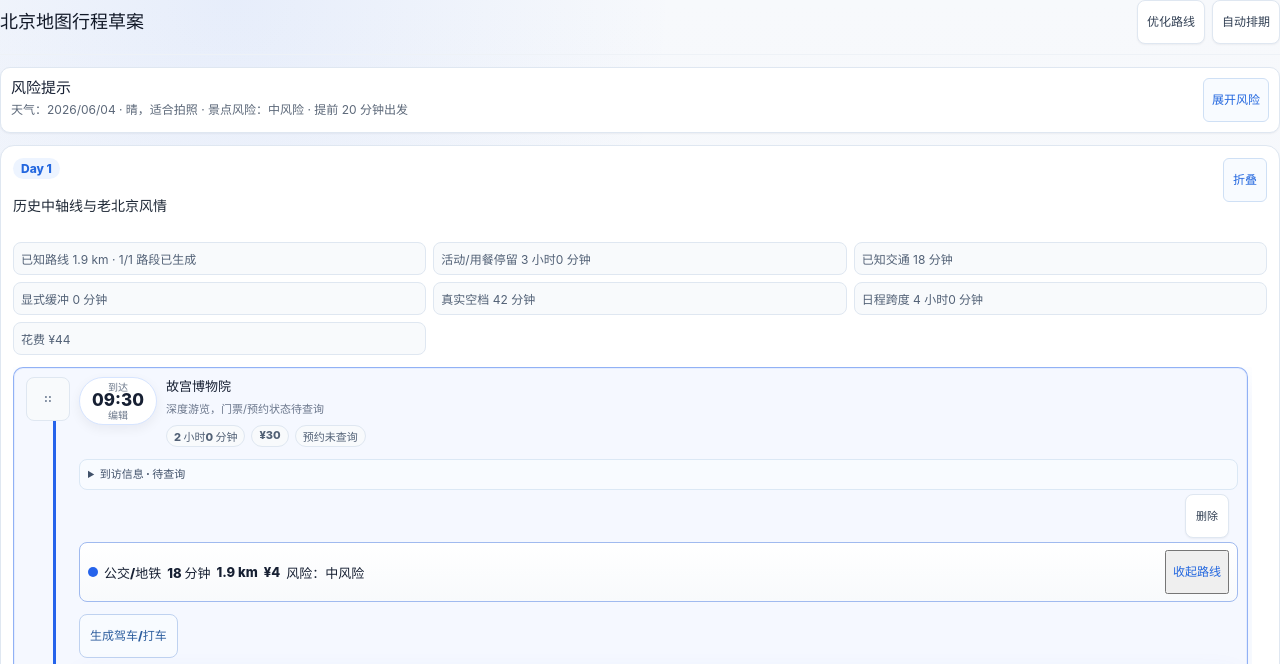
Test case: auto schedule button recomputes schedule without changing route preference
What coordinates should you click on to do the following:
click the button "自动排期"
I would click on:
 (1246, 22)
Its box is [1212, 0, 1279, 44].
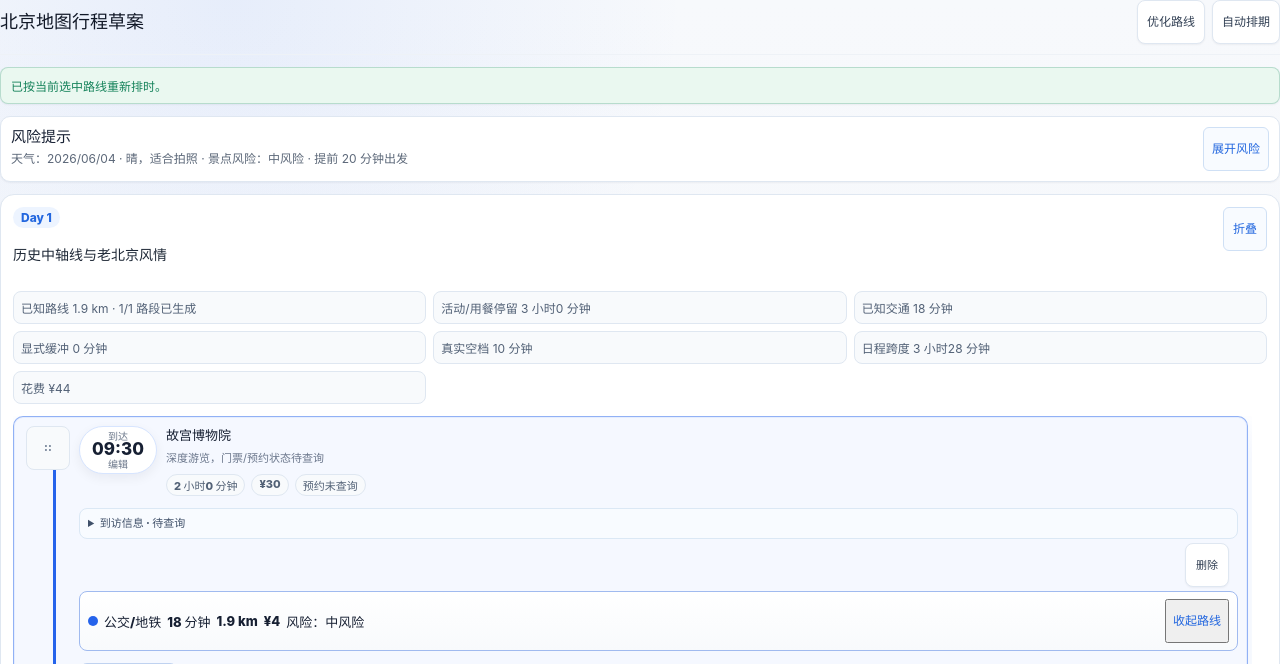
Now the text "已按当前选中路线重新排时。" is shown, box [0, 67, 1279, 104]
